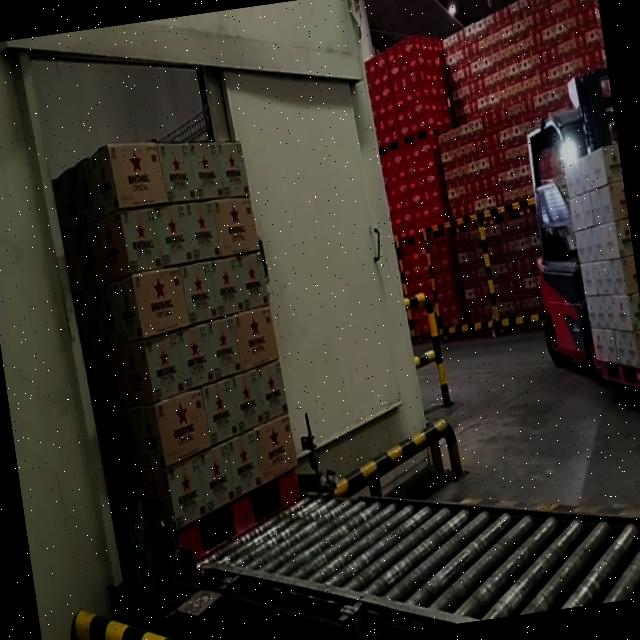pallet: (41, 114, 314, 582), (555, 142, 640, 410)
